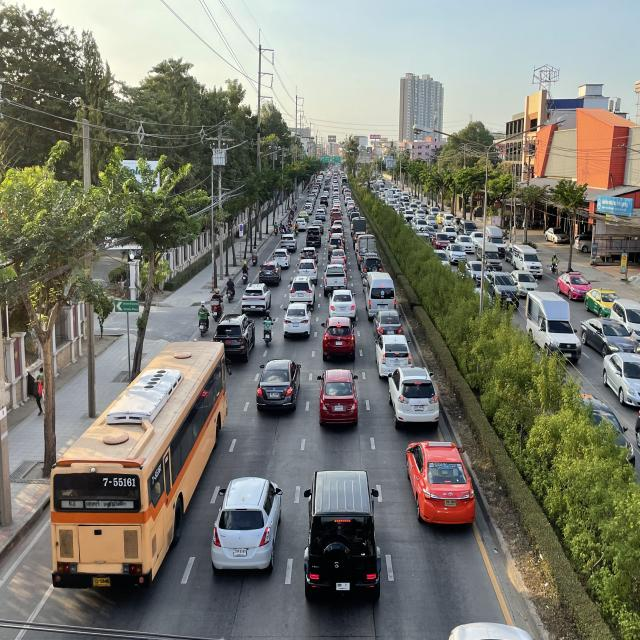bike: (261, 308, 276, 348), (197, 300, 211, 338), (210, 287, 224, 323), (224, 274, 237, 304), (241, 260, 250, 284), (251, 246, 259, 266)
bus: (49, 342, 228, 597)
car: (302, 468, 382, 604), (210, 474, 284, 576), (404, 439, 476, 531), (387, 365, 440, 431), (316, 368, 360, 427), (256, 358, 302, 412), (212, 312, 256, 363), (373, 333, 415, 380), (320, 315, 358, 363), (364, 272, 396, 321), (282, 302, 314, 339), (240, 281, 272, 315), (372, 309, 404, 341), (327, 288, 357, 321), (289, 275, 316, 310), (258, 260, 282, 285)
truck: (356, 234, 376, 270)
